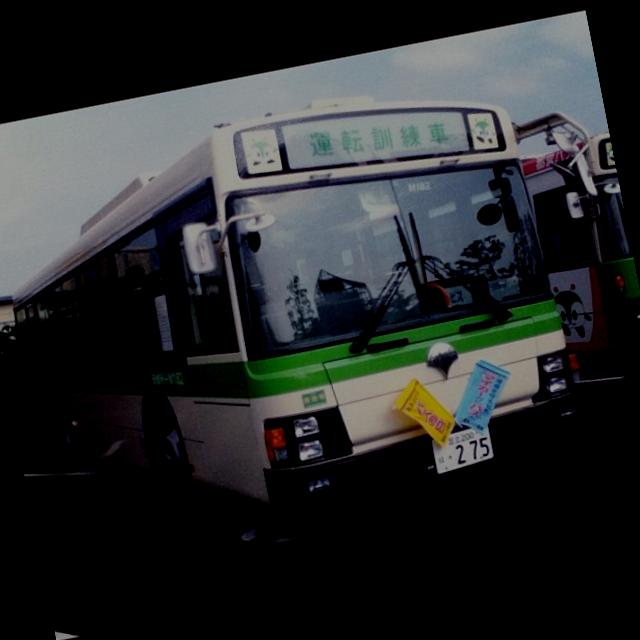Vehicle: (0, 57, 598, 572), (536, 128, 640, 359)
